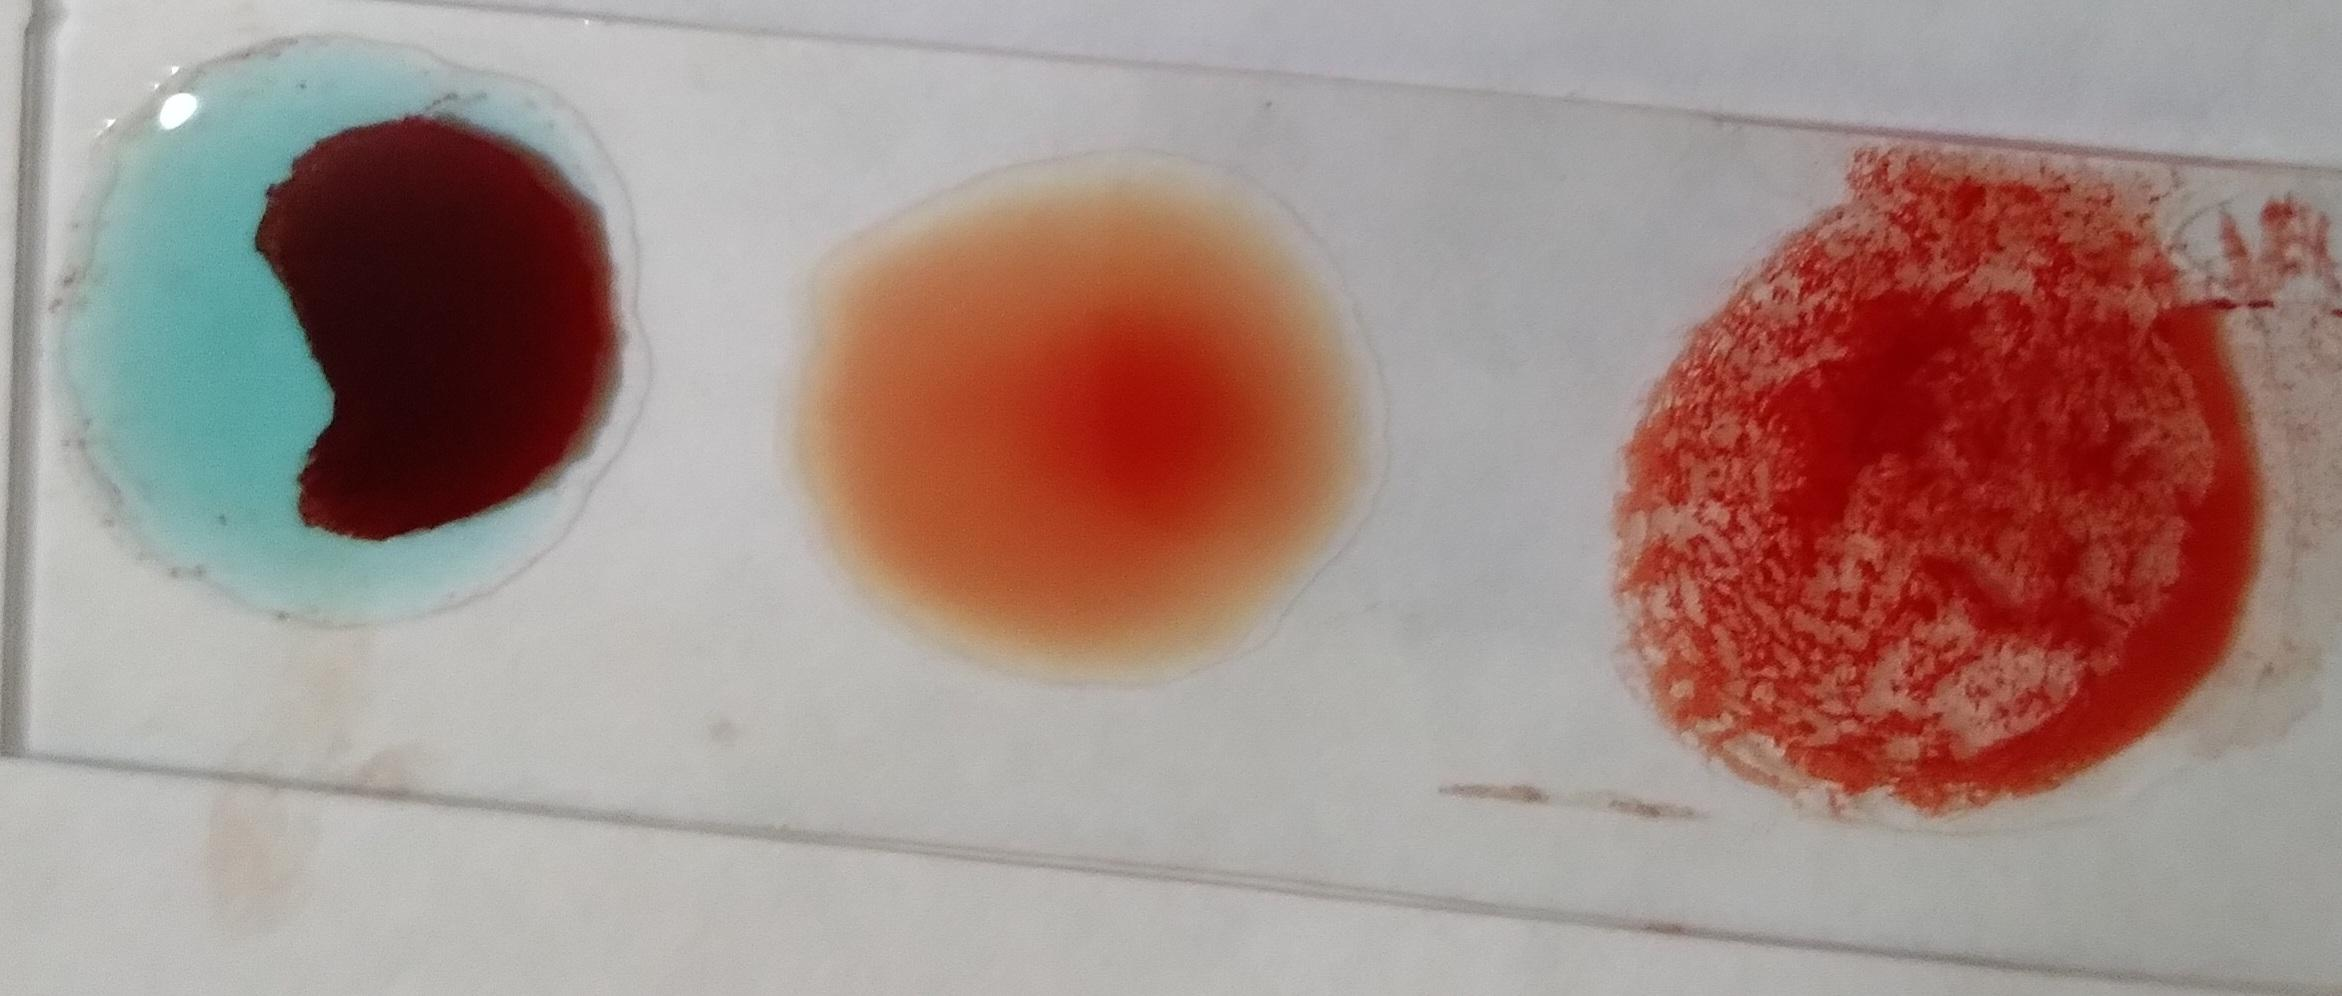A: (63, 33, 660, 660)
D: (1606, 166, 2285, 826)
